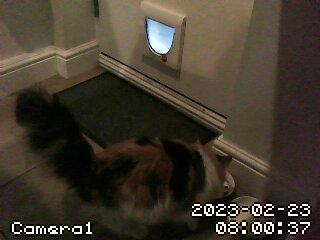clara: (8, 85, 244, 231)
